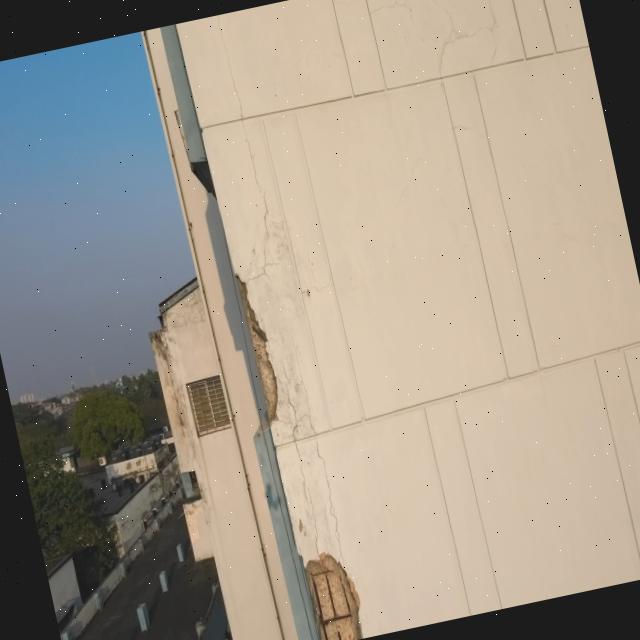crack: (272, 338, 350, 570), (200, 15, 267, 277), (368, 0, 494, 67), (161, 297, 205, 331), (471, 43, 511, 64)
spalling: (236, 274, 278, 423), (304, 552, 361, 640)
stain_mould: (149, 328, 190, 456)
